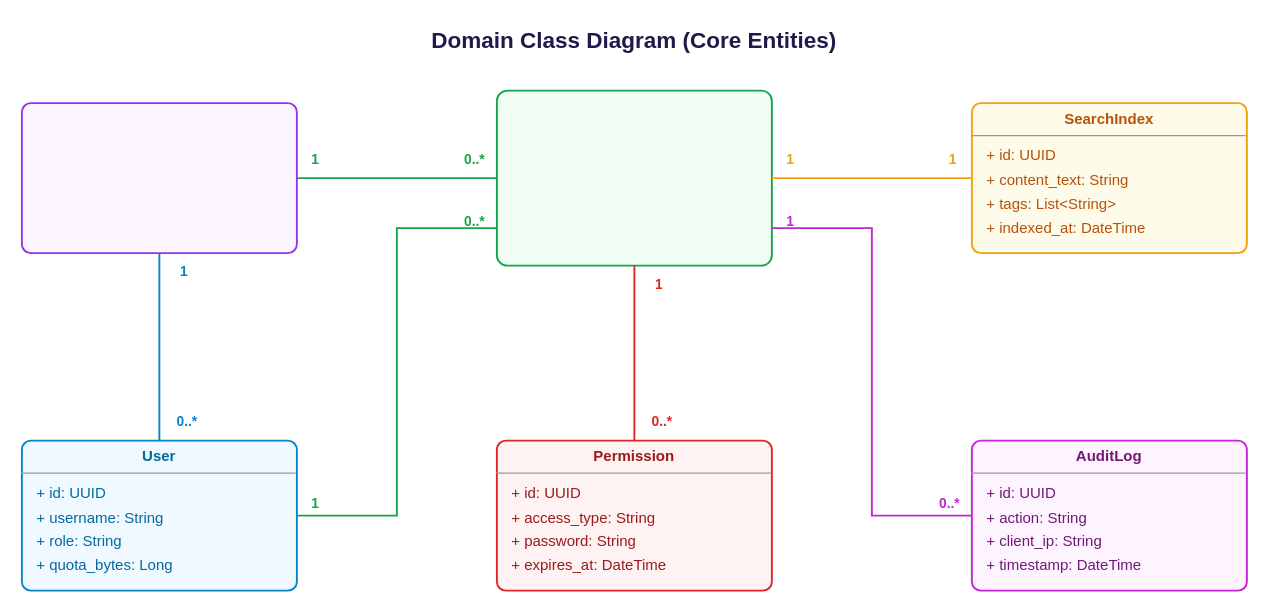
Image size: 1270x613. Some labels were removed from this diagram. Here are the shapes that lost their labels. From the top down, the box of each, then its label:
(20, 102, 297, 254): Tenant + id: UUID + name: String + status: String + quota_bytes: Long
(495, 89, 772, 266): File + id: UUID + name: String + size: Long + checksum: String + s3_key: String
